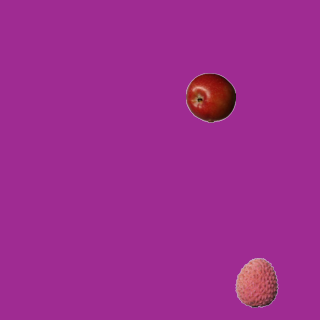Apple Braeburn: (185, 72, 235, 122)
Lychee: (231, 257, 281, 307)
